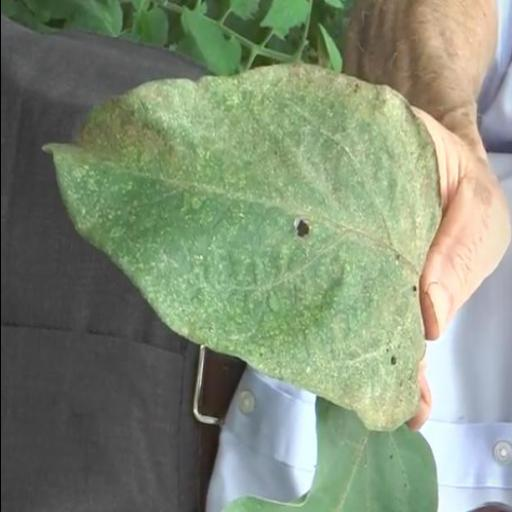Spider Mites: (39, 62, 441, 435)
